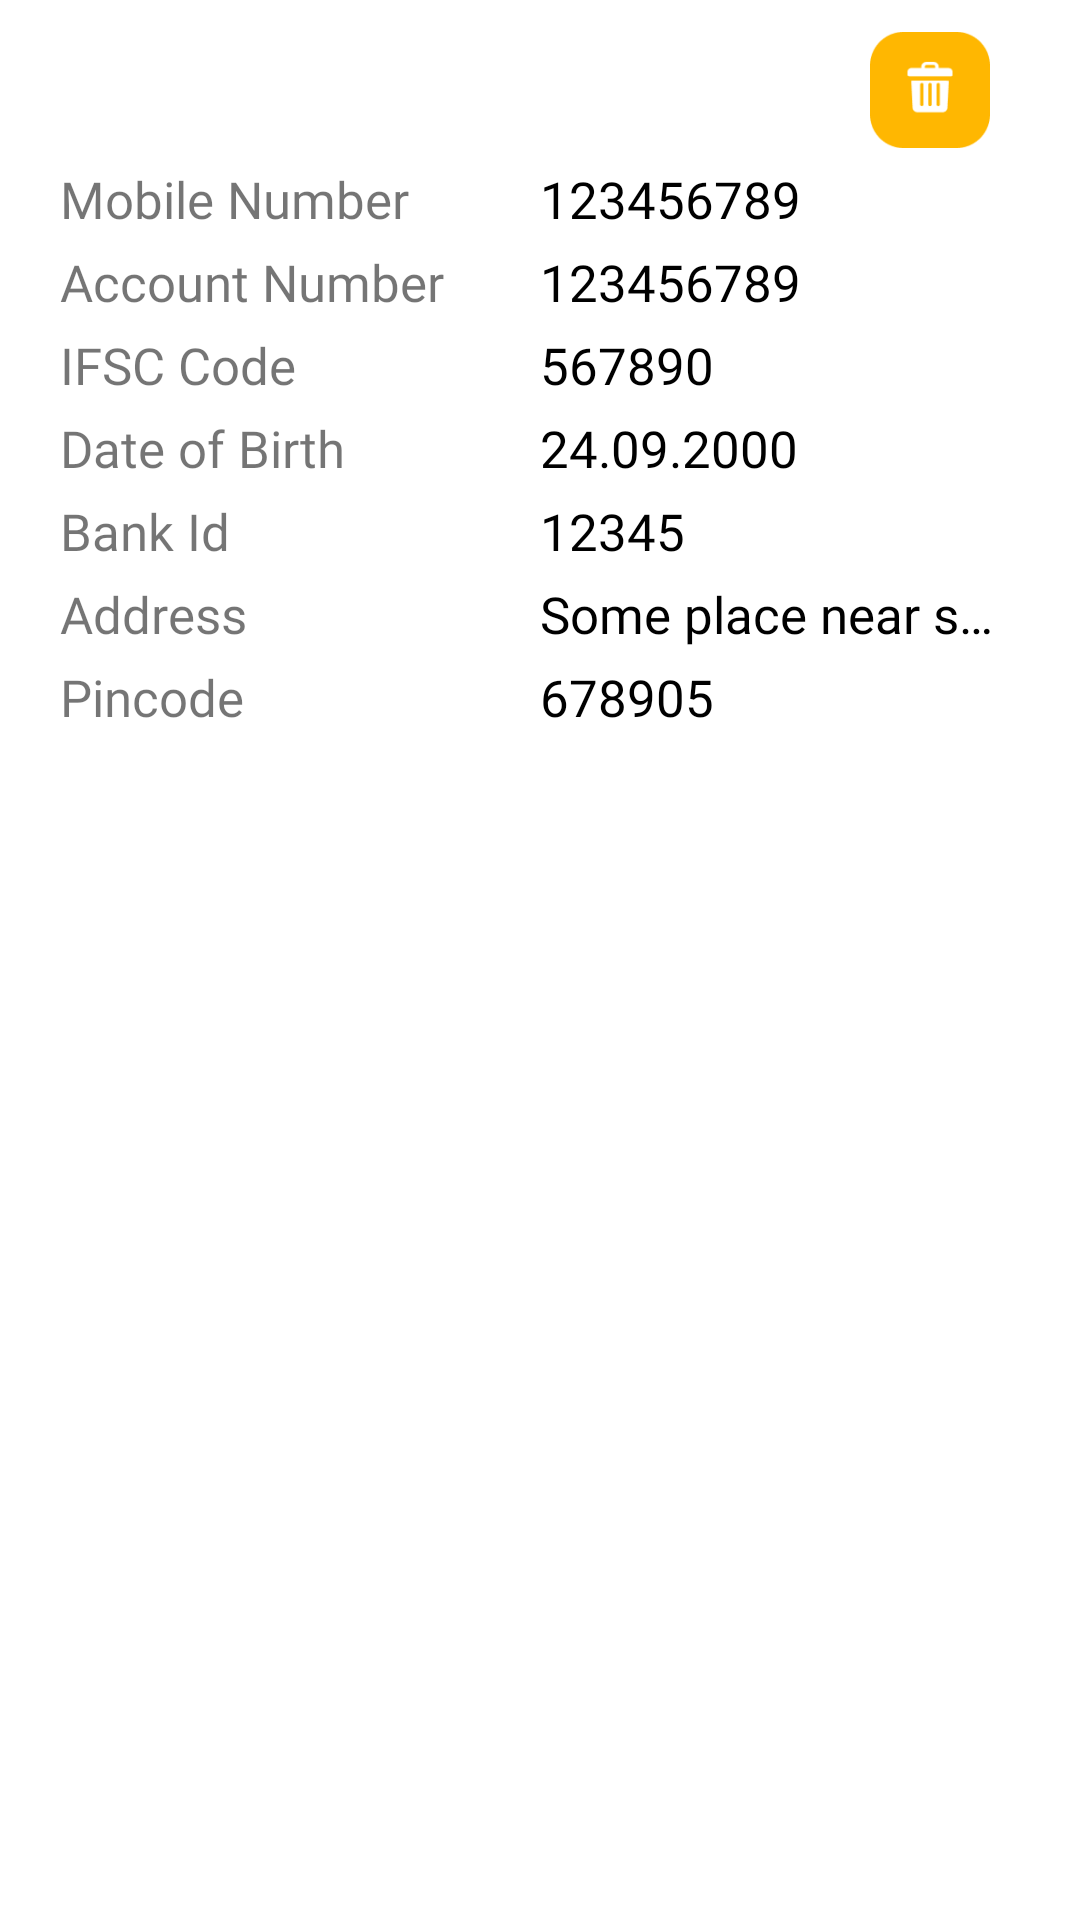

Named icons in this screenshot (1080 × 1920) and their centers, (x=x, y=y):
bin: (x=930, y=90)
